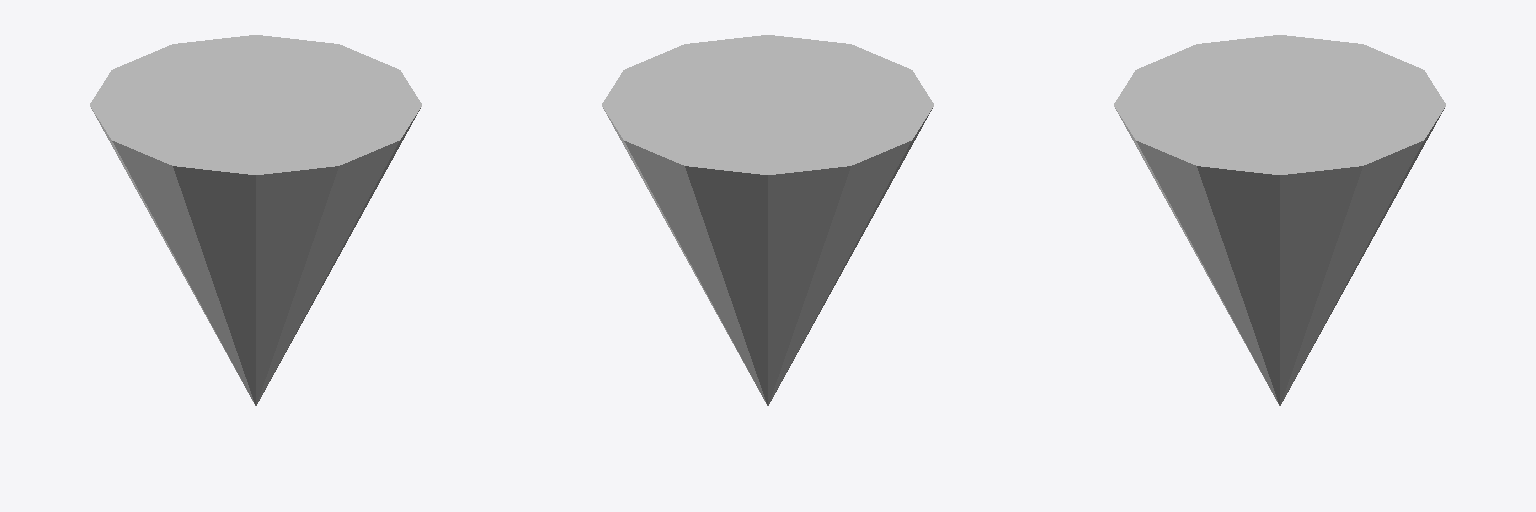
File: pointer.obj
The picture shows the model from 3 angles: view 1: azimuth 30°, elevation 25°; view 2: azimuth 150°, elevation 25°; view 3: azimuth 270°, elevation 25°; orthographic projection.
Parts seen in each view (by area): view 1: Cone; view 2: Cone; view 3: Cone.
Boxes of the visible parts, x1=… form: Cone: x1=90, y1=35, x2=421, y2=405; Cone: x1=602, y1=35, x2=933, y2=405; Cone: x1=1114, y1=35, x2=1445, y2=405.
Size of the model in its own units: 2 by 2 by 2.